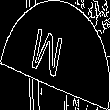M_S: (36, 24, 74, 86)
